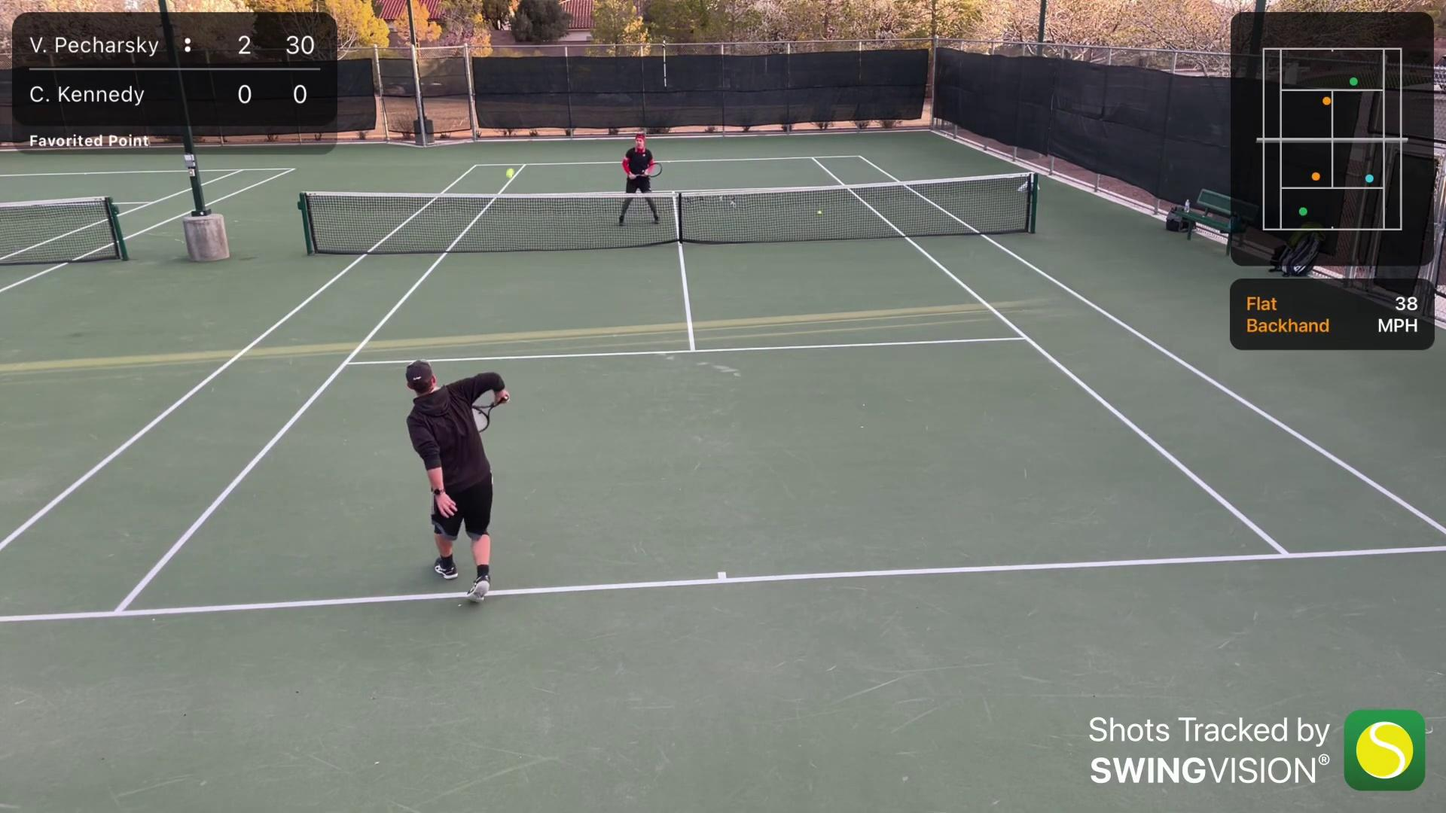ball: (505, 167, 516, 180), (817, 209, 822, 216)
